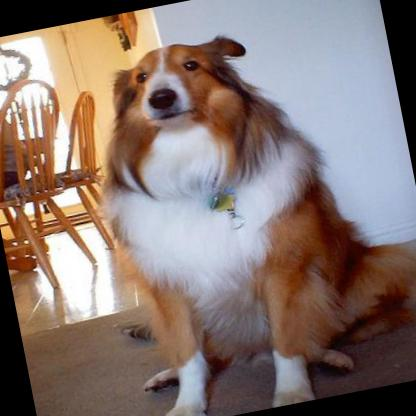collie: (63, 1, 416, 416)
